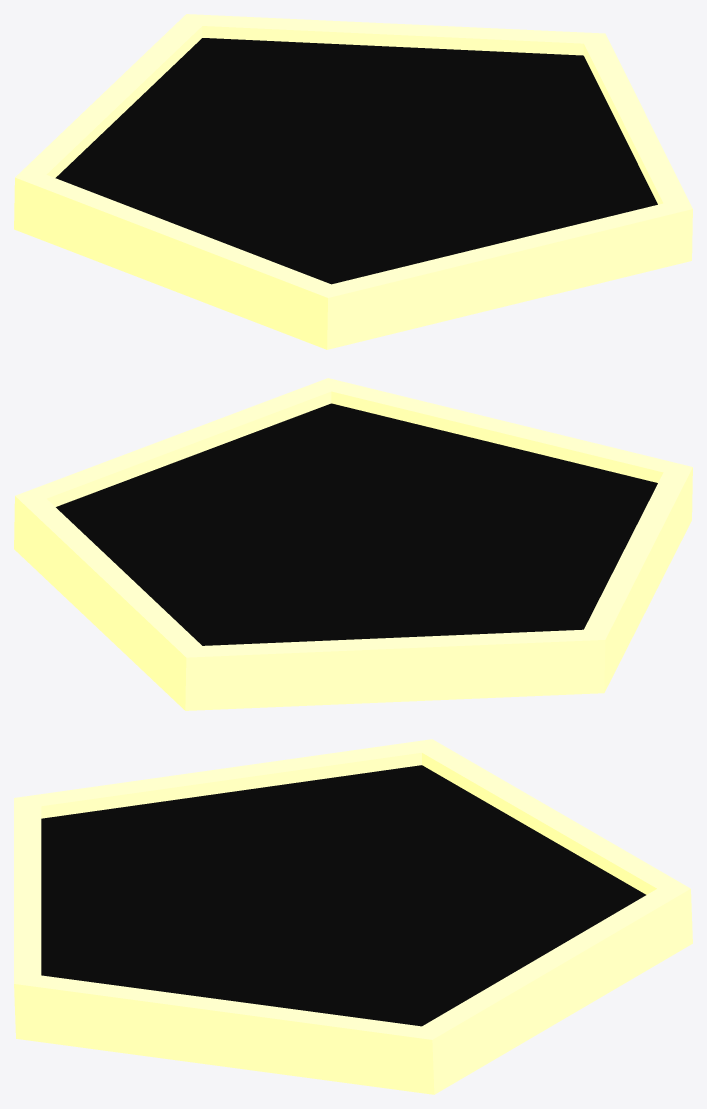
Rendered from SFI0210032.fbx.
3 renders of one model, top to bottom at view 1: azimuth 30°, elevation 25°; view 2: azimuth 150°, elevation 25°; view 3: azimuth 270°, elevation 25°, orthographic. The views are drawn at different scales.
Parts seen in each view (by area): view 1: smSFI0210032; view 2: smSFI0210032; view 3: smSFI0210032.
Boxes of the visible parts, bbox=[...] form: smSFI0210032: bbox=[14, 14, 692, 349]; smSFI0210032: bbox=[14, 378, 692, 710]; smSFI0210032: bbox=[14, 739, 692, 1094].
Size of the model in its own units: 137 by 12.14 by 130.
